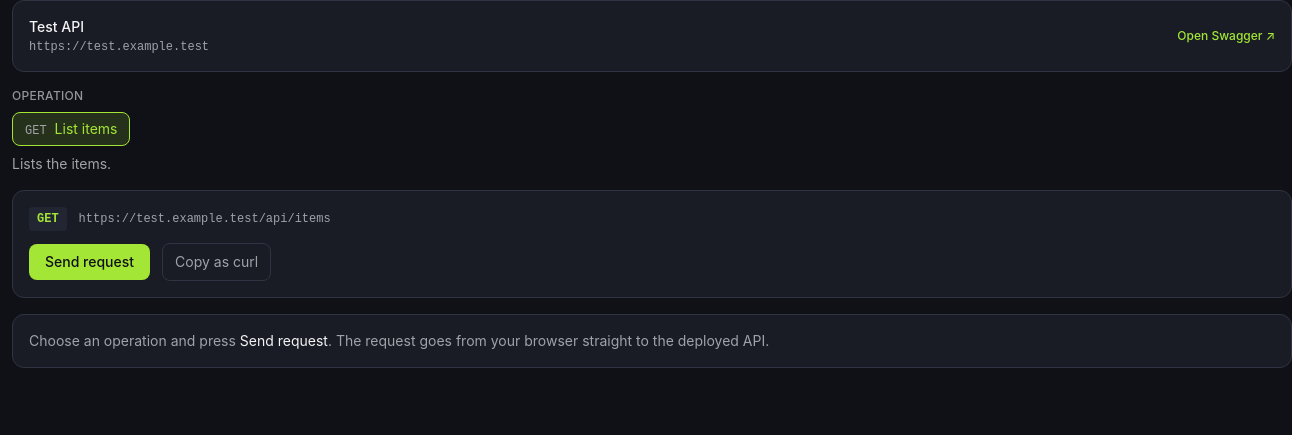
it: the API tester while a request is running › shows a live pending state with a cancel button
Click the button "Send request".
click(90, 262)  # box [29,244,150,280]
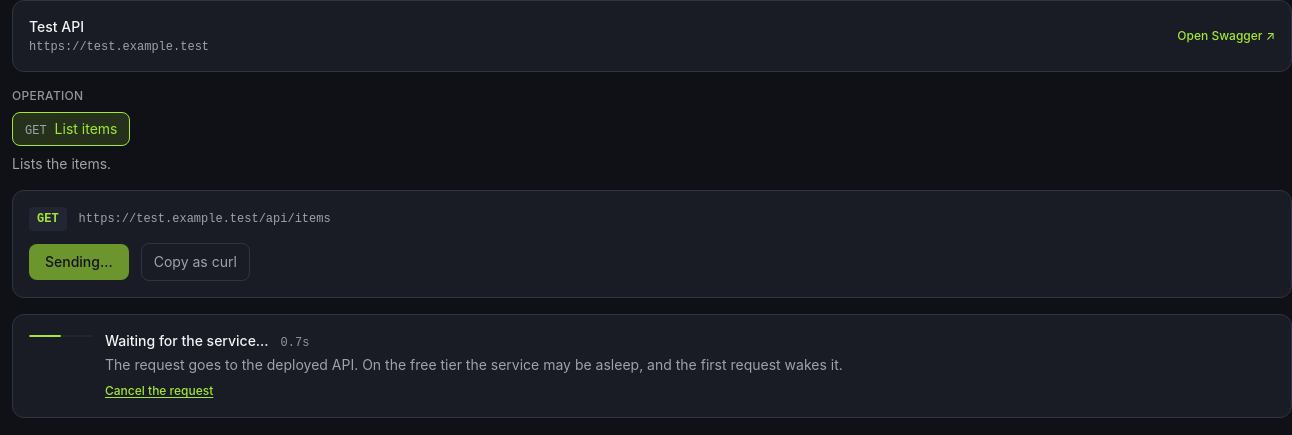
Now the text "Waiting for the service…" is shown, box [105,331,269,351]
Now the button "Cancel the request" is shown, box [105,383,213,399]
Now the button "Sending…" is disabled, box [29,244,129,280]
